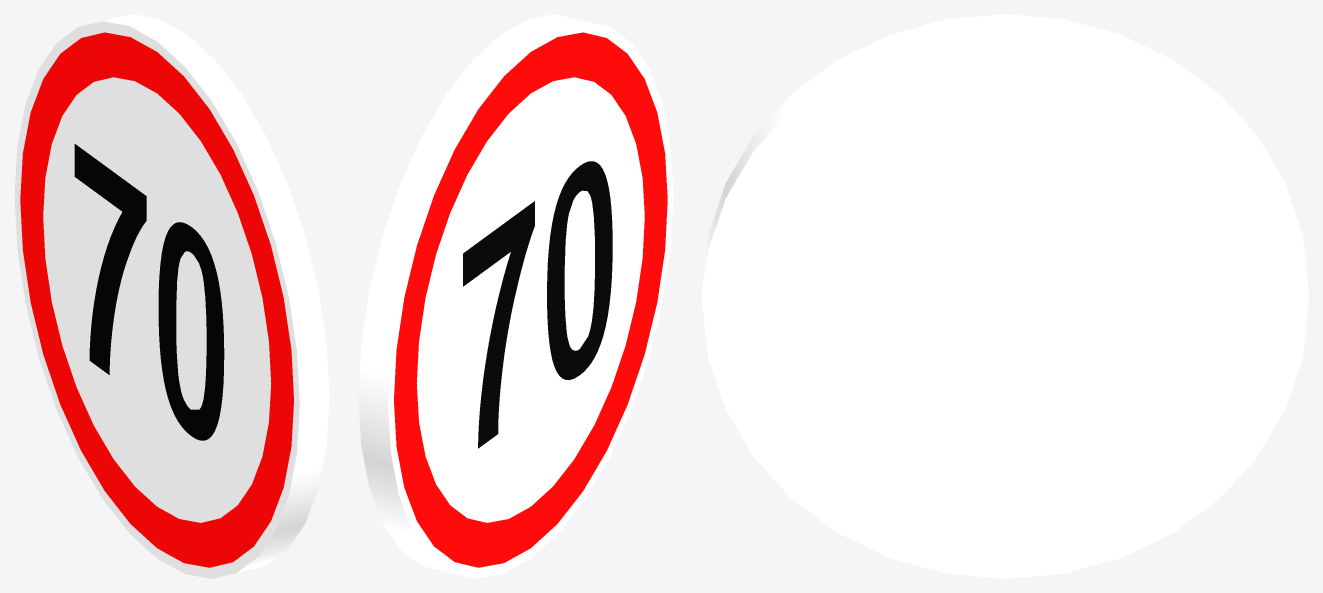
The model's file is Speed_Limit_70.glb.
The picture shows the model from 3 angles, left to right: view 1: azimuth 30°, elevation 25°; view 2: azimuth 150°, elevation 25°; view 3: azimuth 270°, elevation 25°; orthographic projection. The views are drawn at different scales.
Visible parts, largest first — view 1: Speed_Limit_70; view 2: Speed_Limit_70; view 3: Speed_Limit_70.
Part boxes in pixels (bbox=[...]): Speed_Limit_70: bbox=[14, 14, 329, 578]; Speed_Limit_70: bbox=[358, 14, 673, 578]; Speed_Limit_70: bbox=[702, 14, 1308, 578].
Bounding box in the file's own units: 0.075 × 1 × 1.
